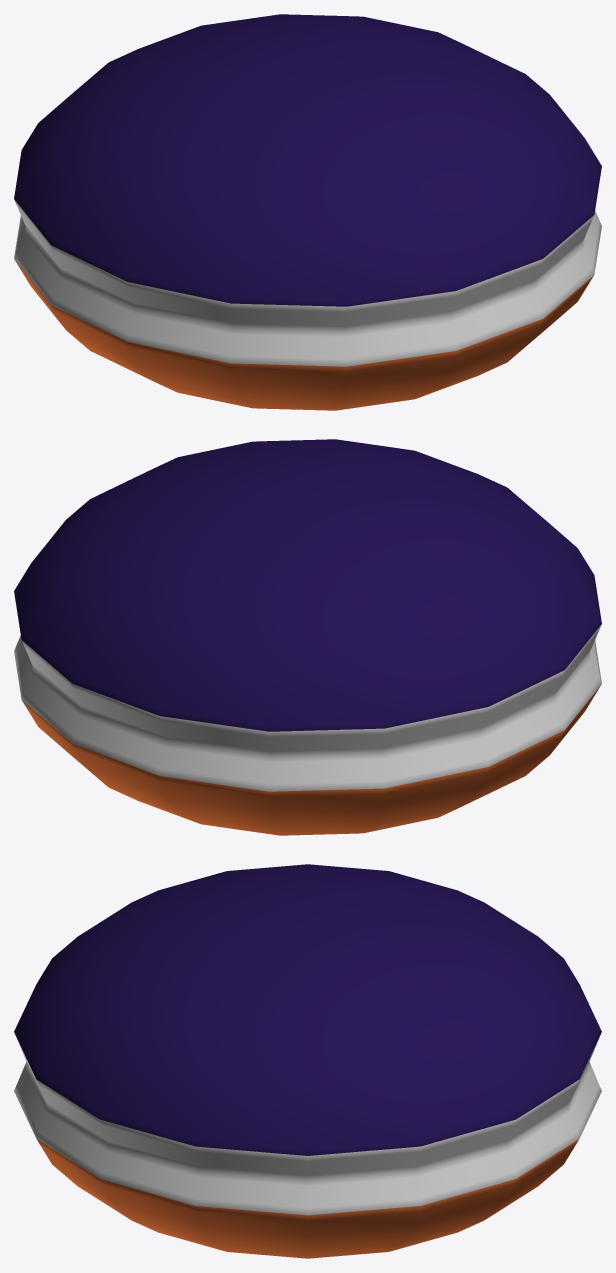
Rendered from TidePod.fbx.
3 renders of one model, top to bottom at view 1: azimuth 30°, elevation 25°; view 2: azimuth 150°, elevation 25°; view 3: azimuth 270°, elevation 25°, orthographic.
Parts seen in each view (by area): view 1: Sphere; view 2: Sphere; view 3: Sphere.
Boxes of the visible parts, left/top/right/bottom form: Sphere: left=14, top=14, right=601, bottom=410; Sphere: left=14, top=439, right=601, bottom=835; Sphere: left=14, top=864, right=601, bottom=1258.
Size of the model in its own units: 7 by 4 by 7.
